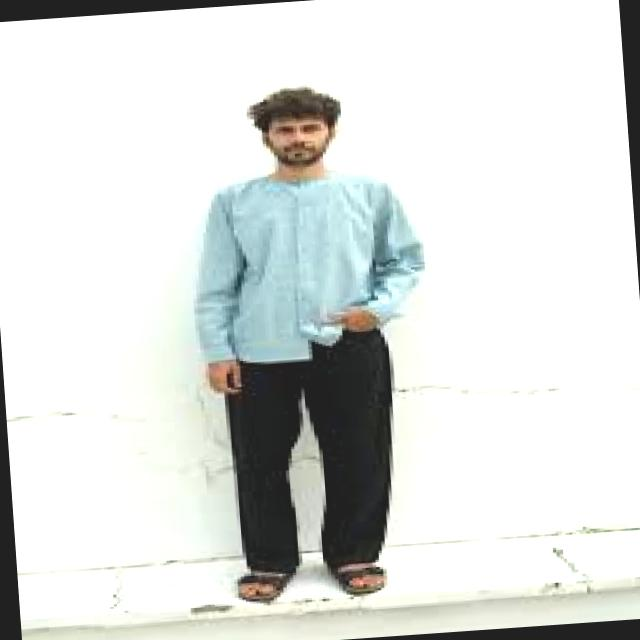face: (262, 117, 335, 167)
foot-wear: (238, 572, 292, 602), (332, 565, 386, 594)
lower-wear: (226, 328, 394, 572)
top-wear: (194, 170, 424, 363)
